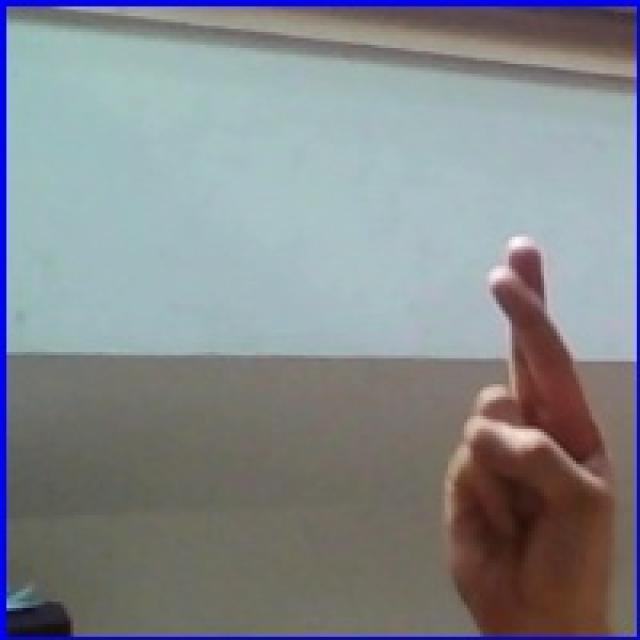Letra-R: (392, 226, 628, 626)
